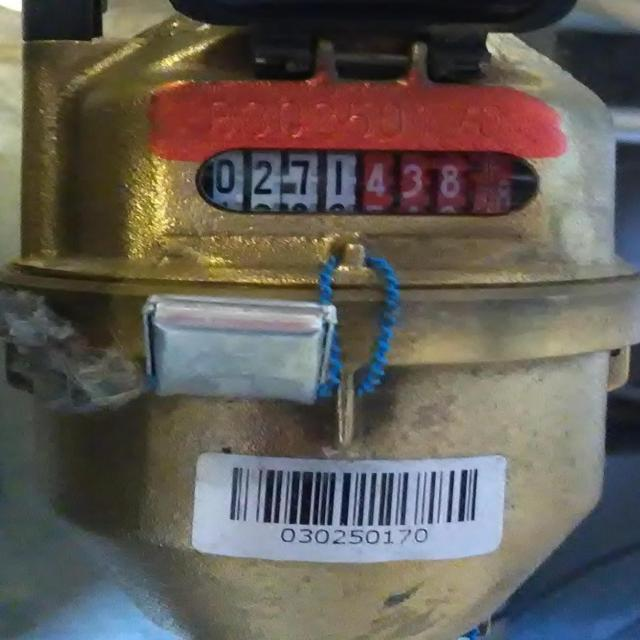gaz_meter: (137, 70, 576, 278)
indication: (203, 154, 520, 213)
